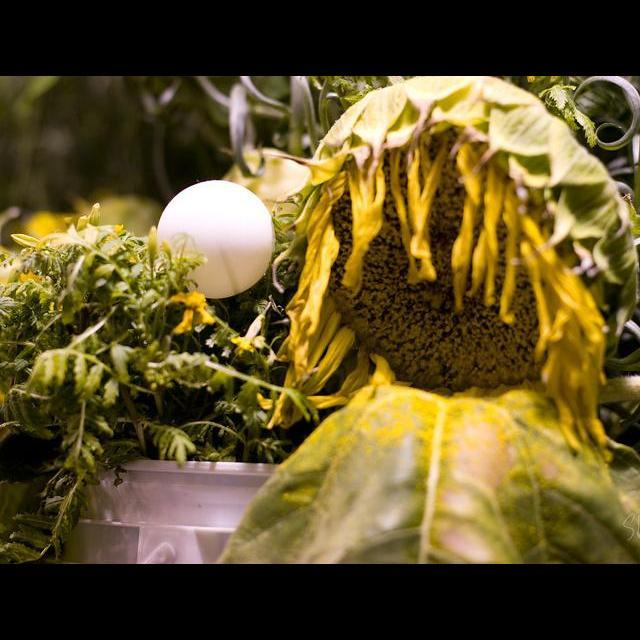ping-pong-ball: (154, 179, 276, 299)
